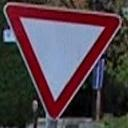preferencia: (0, 0, 122, 120)
